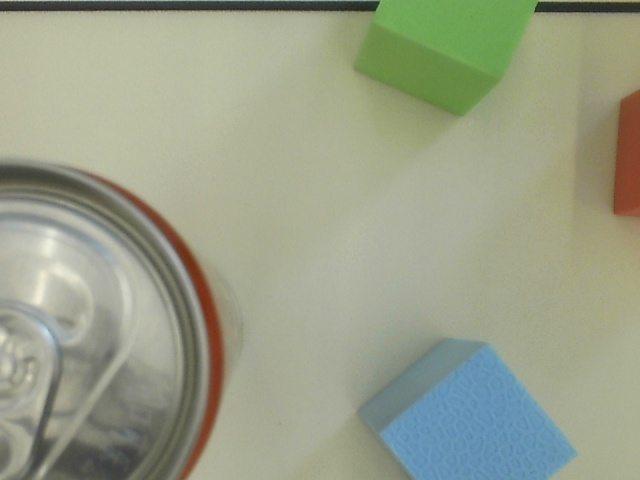bluecube: (355, 333, 586, 480)
cola: (1, 148, 245, 480)
greencube: (346, 1, 546, 119)
redcube: (610, 87, 640, 225)
